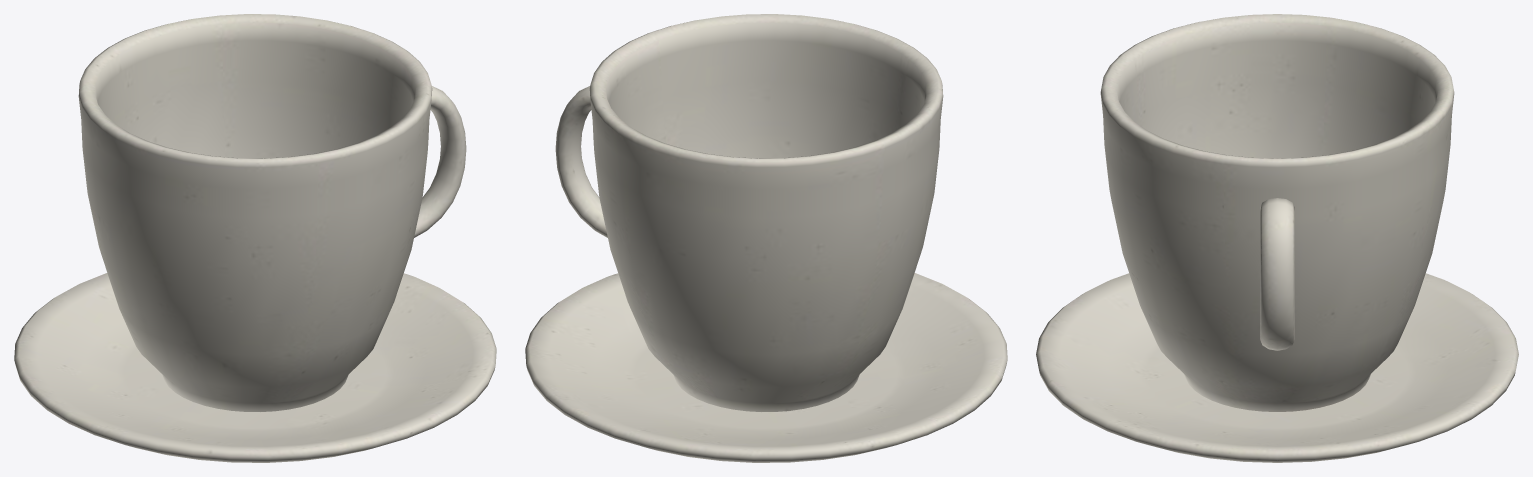
File: studio_cup.glb
The picture shows the model from 3 angles, left to right: view 1: azimuth 30°, elevation 25°; view 2: azimuth 150°, elevation 25°; view 3: azimuth 270°, elevation 25°; orthographic projection.
Parts seen in each view (by area): view 1: studio_cup; view 2: studio_cup; view 3: studio_cup.
Part boxes in pixels (bbox=[...]): studio_cup: bbox=[14, 14, 496, 462]; studio_cup: bbox=[525, 14, 1007, 462]; studio_cup: bbox=[1036, 14, 1518, 462].
Bounding box in the file's own units: 0.125 × 0.088 × 0.125.
Materials: 1 (1 with a texture image).
